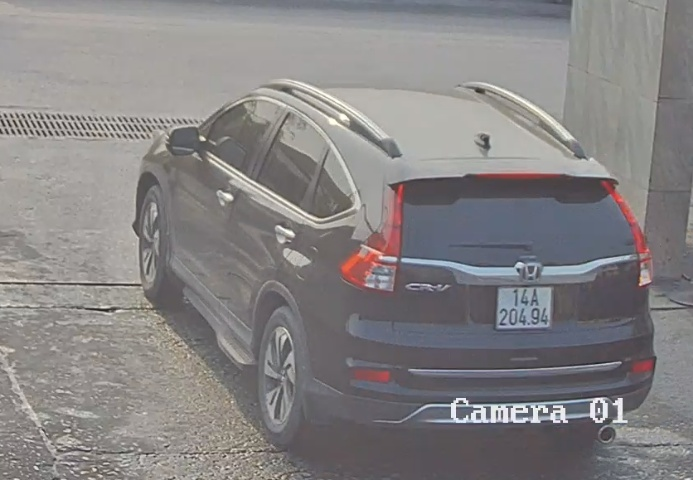vehicle plate: (495, 278, 553, 331)
